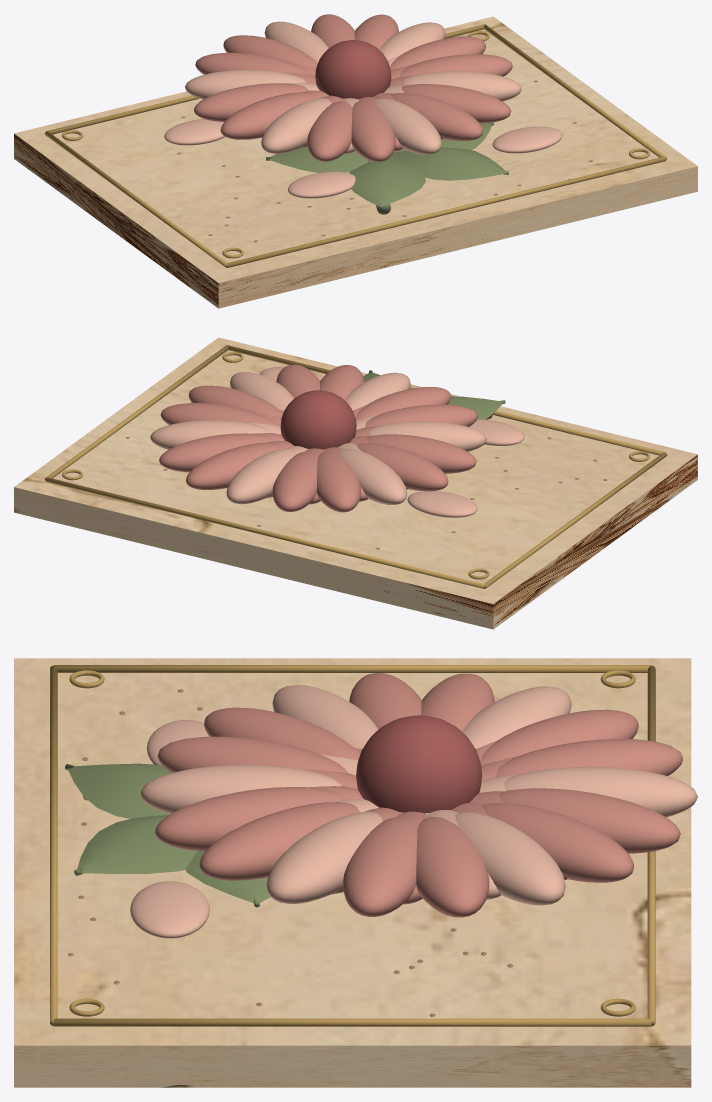
The model's file is reminiscence-rose.glb.
3 renders of one model, top to bottom at view 1: azimuth 30°, elevation 25°; view 2: azimuth 150°, elevation 25°; view 3: azimuth 270°, elevation 25°, orthographic. The views are drawn at different scales.
Visible parts, largest first — view 1: Handmade parchment card, Tight rose heart, Rose leaf.003, Rose leaf.004, Gilt border.002, Curled rose petal.044, Curled rose petal.045, Curled rose petal.049, Curled rose petal.048, Curled rose petal.047, Curled rose petal.046, Curled rose petal.043 (+19 smaller); view 2: Handmade parchment card, Tight rose heart, Gilt border.003, Curled rose petal.038, Curled rose petal.039, Curled rose petal.043, Curled rose petal.042, Curled rose petal.040, Curled rose petal.041, Curled rose petal.037, Curled rose petal.044, Curled rose petal.045 (+15 smaller); view 3: Handmade parchment card, Tight rose heart, Curled rose petal.050, Curled rose petal.051, Curled rose petal.037, Curled rose petal.053, Curled rose petal.036, Curled rose petal.052, Curled rose petal.049, Curled rose petal.038, Gilt border.001, Curled rose petal.039 (+17 smaller).
Boxes of the visible parts, <box> form: Handmade parchment card: <box>14,16,697,308</box>; Tight rose heart: <box>315,40,391,98</box>; Rose leaf.003: <box>349,154,425,206</box>; Rose leaf.004: <box>392,147,505,180</box>; Gilt border.002: <box>227,156,666,267</box>; Curled rose petal.044: <box>220,92,317,139</box>; Curled rose petal.045: <box>261,98,331,153</box>; Curled rose petal.049: <box>391,93,483,140</box>; Curled rose petal.048: <box>375,98,441,154</box>; Curled rose petal.047: <box>351,101,395,161</box>; Curled rose petal.046: <box>307,101,352,161</box>; Curled rose petal.043: <box>194,83,309,121</box>; Handmade parchment card: <box>14,337,697,629</box>; Tight rose heart: <box>280,390,356,449</box>; Gilt border.003: <box>45,477,484,588</box>; Curled rose petal.038: <box>186,442,282,489</box>; Curled rose petal.039: <box>226,448,296,504</box>; Curled rose petal.043: <box>356,443,448,491</box>; Curled rose petal.042: <box>340,448,406,504</box>; Curled rose petal.040: <box>272,451,317,511</box>; Curled rose petal.041: <box>316,451,360,512</box>; Curled rose petal.037: <box>159,433,274,472</box>; Curled rose petal.044: <box>367,434,476,473</box>; Curled rose petal.045: <box>369,421,486,451</box>; Handmade parchment card: <box>14,658,691,1087</box>; Tight rose heart: <box>356,715,482,813</box>; Curled rose petal.050: <box>199,802,359,880</box>; Curled rose petal.051: <box>266,811,382,903</box>; Curled rose petal.037: <box>481,803,633,882</box>; Curled rose petal.053: <box>416,817,489,917</box>; Curled rose petal.036: <box>455,812,565,905</box>; Curled rose petal.052: <box>343,817,417,916</box>; Curled rose petal.049: <box>155,787,346,851</box>; Curled rose petal.038: <box>499,788,680,853</box>; Gilt border.001: <box>54,1018,651,1026</box>; Curled rose petal.039: <box>503,767,697,817</box>.
Size of the model in its own units: 2.76 by 0.62 by 2.06.
Materials: 7 (1 with a texture image).
